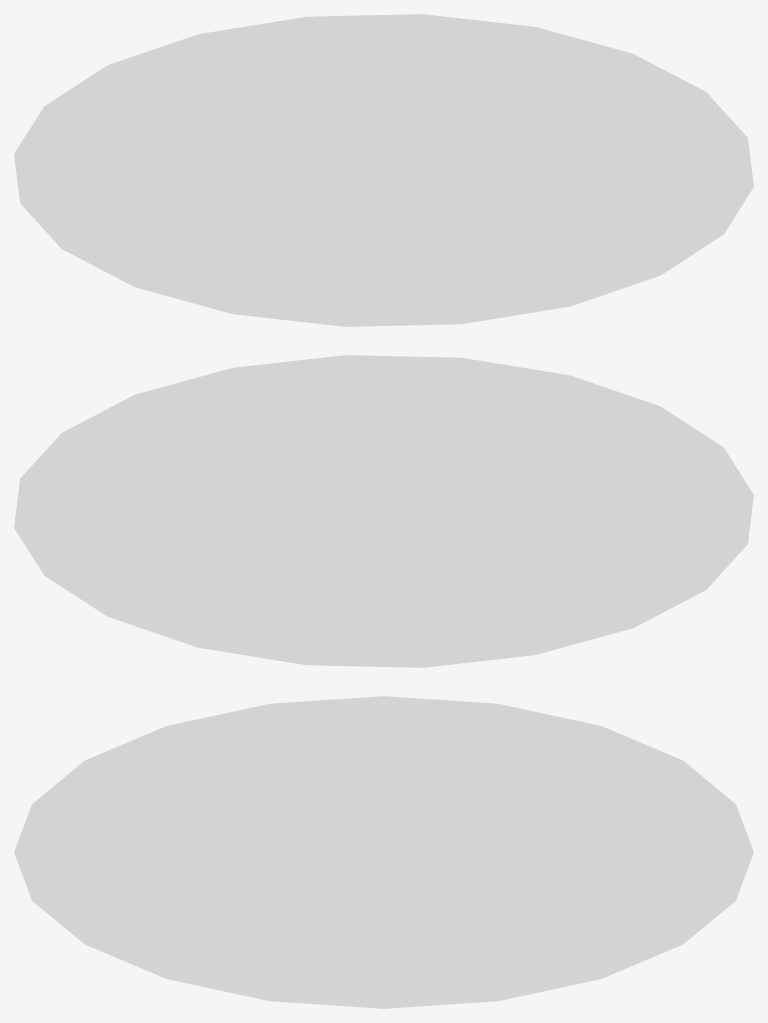
The model's file is mirrorltop.dae.
The picture shows the model from 3 angles, top to bottom: view 1: azimuth 30°, elevation 25°; view 2: azimuth 150°, elevation 25°; view 3: azimuth 270°, elevation 25°; orthographic projection.
Visible parts, largest first — view 1: m0; view 2: m0; view 3: m0.
Part boxes in pixels (x1,y1,x2,y2): m0: (14, 14, 753, 326); m0: (14, 355, 753, 667); m0: (14, 696, 753, 1008).
Bounding box in the file's own units: 3000 × 0 × 3000.
1 material, 1 textured.
